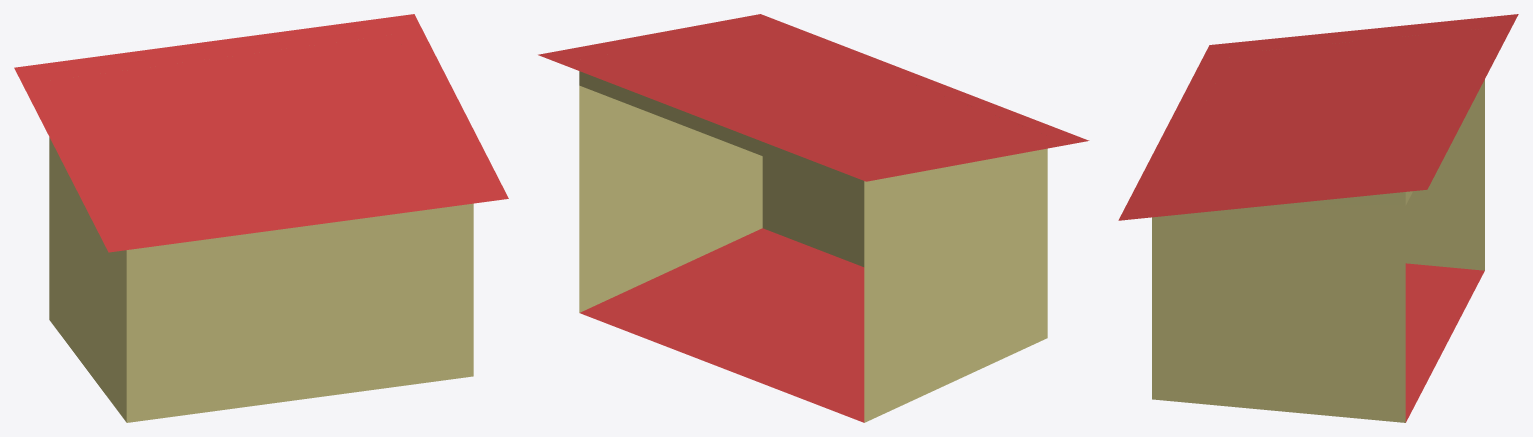
The picture shows the model from 3 angles, left to right: view 1: azimuth 30°, elevation 25°; view 2: azimuth 150°, elevation 25°; view 3: azimuth 270°, elevation 25°; orthographic projection. The views are drawn at different scales.
Size of the model in its own units: 17.03 by 14.11 by 9.62.
